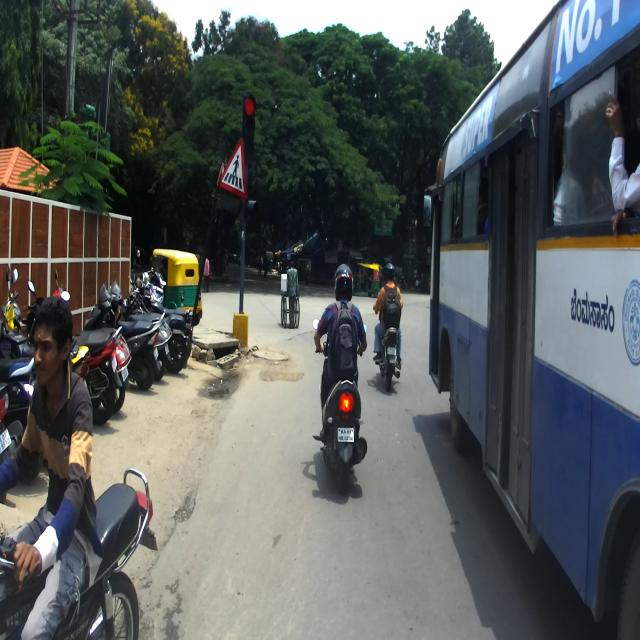bus ahead at: (425, 0, 639, 640)
motorcycle ahead at: (315, 364, 370, 490), (372, 325, 403, 397)
traffic signal ahead at: (242, 88, 258, 164)
